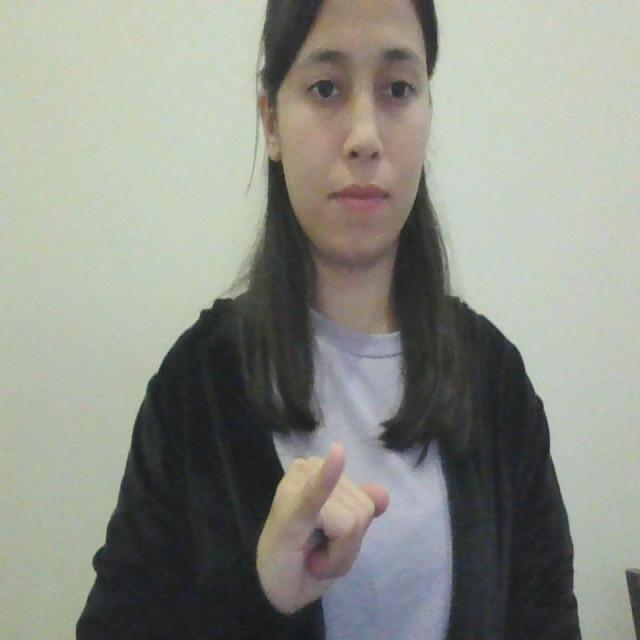kotu: (253, 437, 400, 602)
